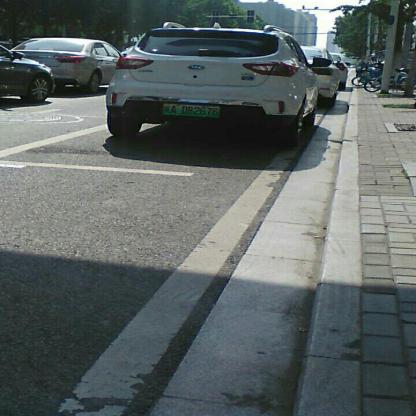lp: (163, 103, 220, 117)
